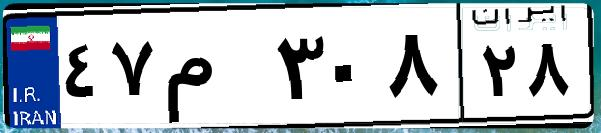0: (330, 28, 385, 110)
2: (475, 38, 525, 113)
3: (270, 28, 330, 110)
4: (57, 26, 110, 100)
7: (110, 28, 158, 98)
8: (385, 28, 445, 110), (525, 38, 570, 115)
م: (158, 20, 270, 120)
